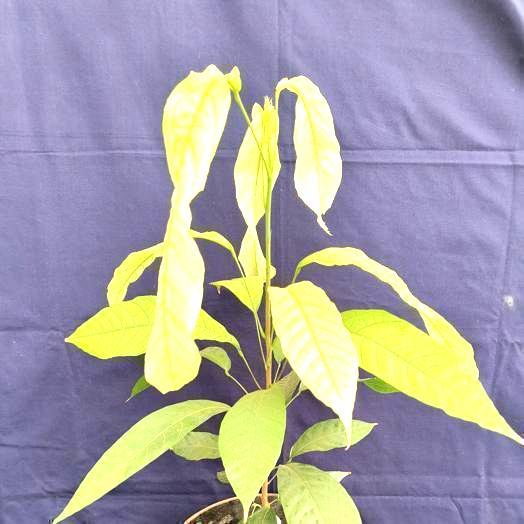Iron: (145, 65, 239, 392), (294, 247, 477, 377), (341, 311, 517, 439), (53, 399, 228, 523), (270, 282, 358, 445), (277, 76, 341, 234), (219, 386, 285, 512), (235, 97, 280, 276), (66, 296, 155, 358), (278, 463, 361, 523), (107, 243, 162, 305), (193, 309, 242, 354), (290, 418, 344, 458), (211, 277, 261, 312), (172, 431, 219, 459), (350, 420, 376, 445)
